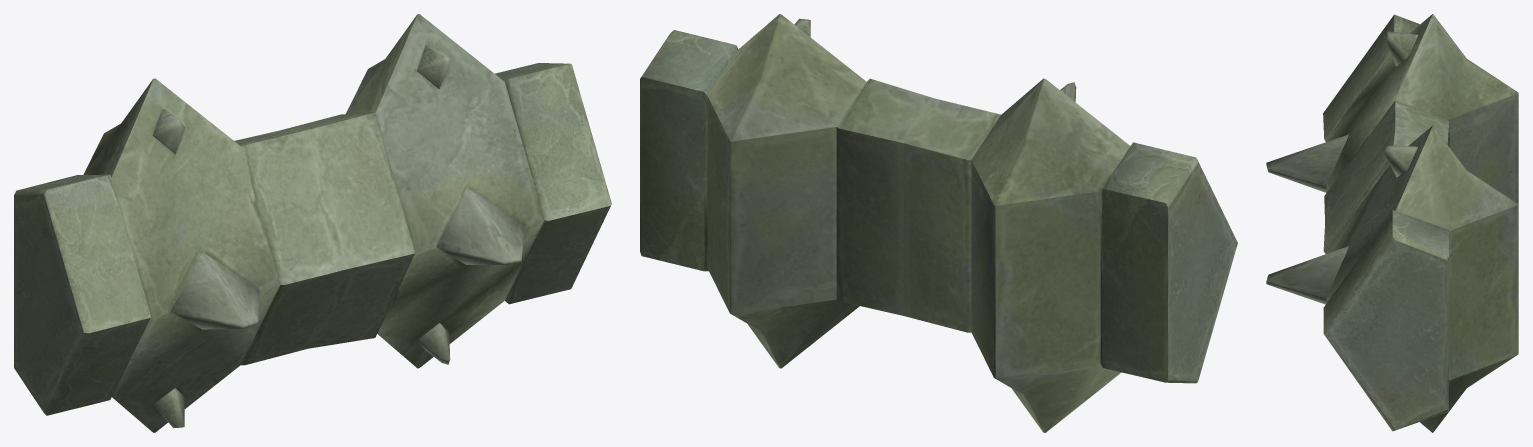
File: Ruins_Trim_Cap_8M_A.fbx
3 renders of one model, left to right at view 1: azimuth 30°, elevation 25°; view 2: azimuth 150°, elevation 25°; view 3: azimuth 270°, elevation 25°, orthographic. The views are drawn at different scales.
Visible parts, largest first — view 1: Ruins_Trim_Cap_8M_A; view 2: Ruins_Trim_Cap_8M_A; view 3: Ruins_Trim_Cap_8M_A.
Boxes of the visible parts, x1,y1,x2,y2 form: Ruins_Trim_Cap_8M_A: (14,14,611,432); Ruins_Trim_Cap_8M_A: (640,14,1237,432); Ruins_Trim_Cap_8M_A: (1266,14,1518,432).
Bounding box in the file's own units: 800 × 512 × 382.
